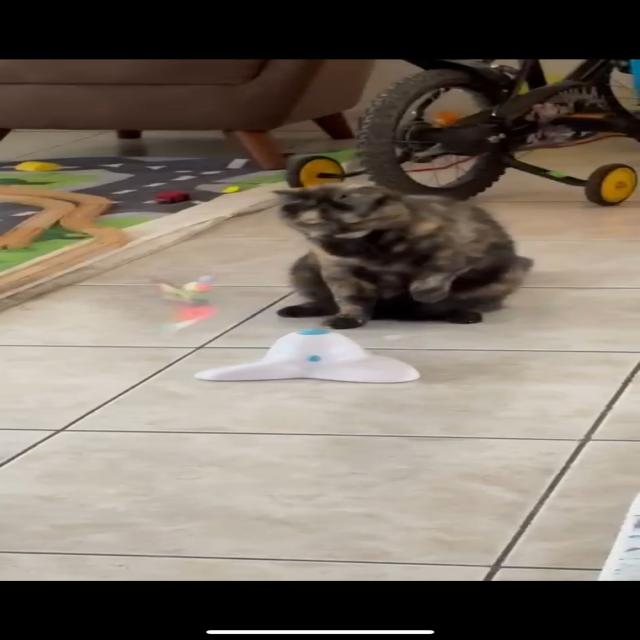authorized: (270, 182, 534, 329)
